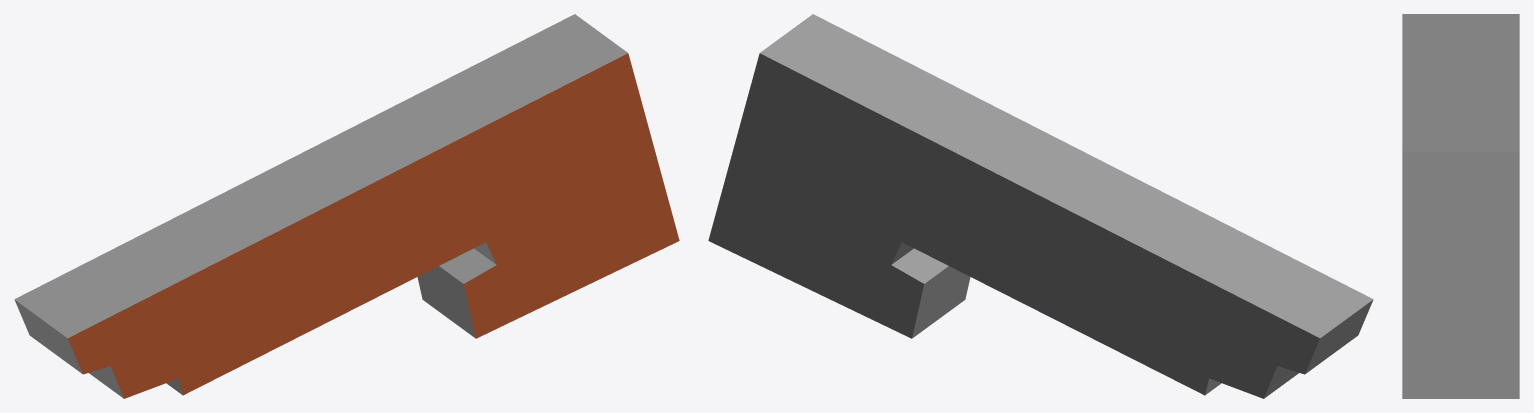
Rendered from construction_1359_assumed_A_Casa_h6m.obj.
The picture shows the model from 3 angles, left to right: view 1: azimuth 30°, elevation 25°; view 2: azimuth 150°, elevation 25°; view 3: azimuth 270°, elevation 25°; orthographic projection. The views are drawn at different scales.
Visible parts, largest first — view 1: construction_1359_assumed_A_Casa; view 2: construction_1359_assumed_A_Casa; view 3: construction_1359_assumed_A_Casa.
Boxes of the visible parts, left/top/right/bottom form: construction_1359_assumed_A_Casa: left=14, top=14, right=679, bottom=398; construction_1359_assumed_A_Casa: left=708, top=14, right=1373, bottom=398; construction_1359_assumed_A_Casa: left=1402, top=14, right=1519, bottom=398.
Bounding box in the file's own units: 39.66 × 15.4 × 6.
